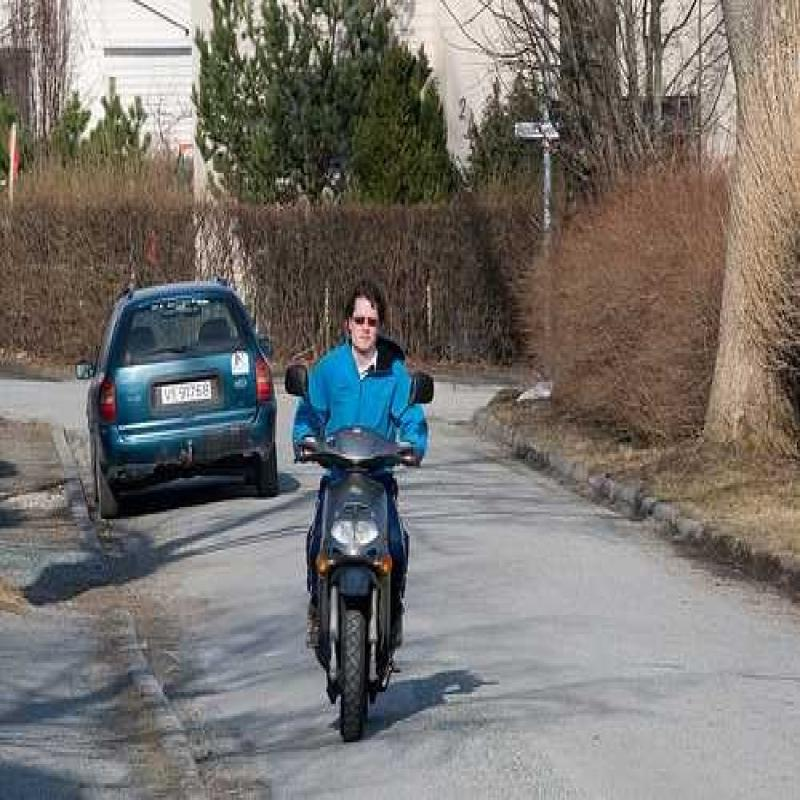bike: (301, 420, 408, 732)
